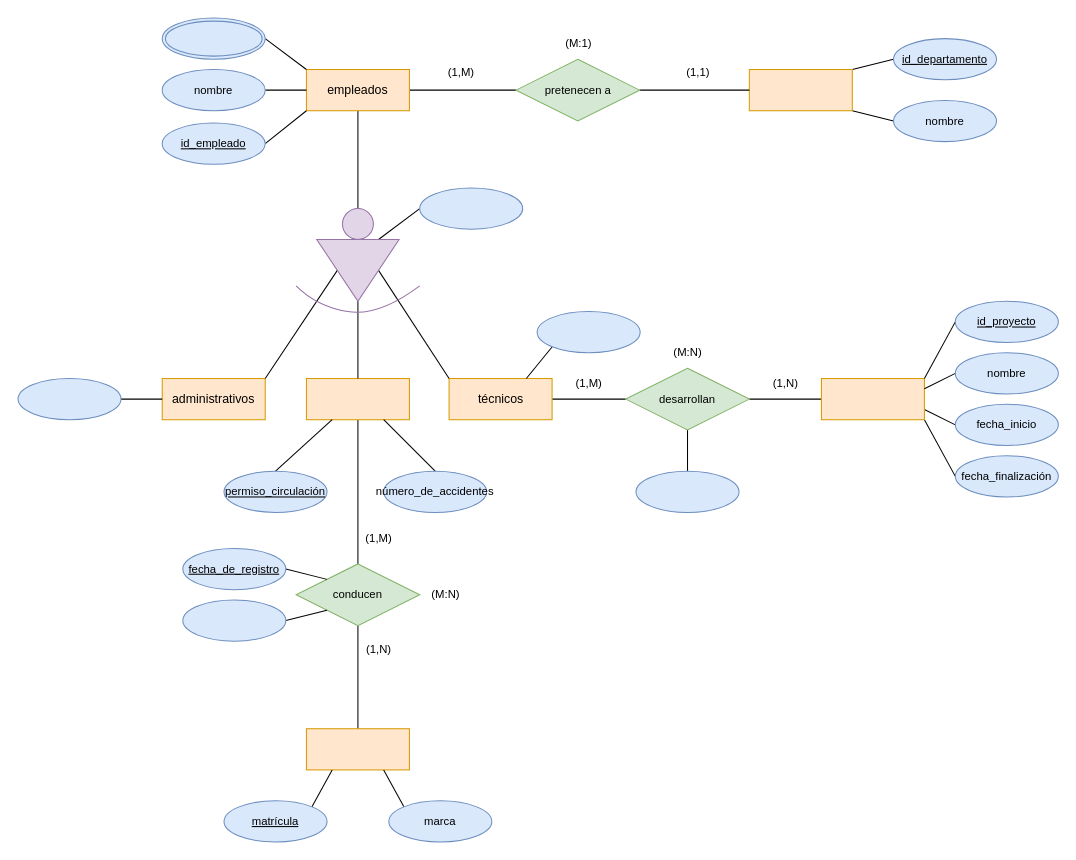
The diagram is 1076 pixels wide and 860 high, and some of its shapes have lost their labels. The shapes that lost their labels are listed below. From the top down, each one's centre as x and y in pixels, then its label:
At (x=213, y=38): "correos_electrónicos".
At (x=800, y=89): "departamentos".
At (x=471, y=208): "empleo".
At (x=588, y=332): "especialidad".
At (x=69, y=398): "idiomas".
At (x=357, y=398): "conductores".
At (x=872, y=398): "proyectos".
At (x=687, y=491): "horas_trabajadas".
At (x=234, y=620): "vehículo_asignado".
At (x=357, y=749): "vehiculos".
